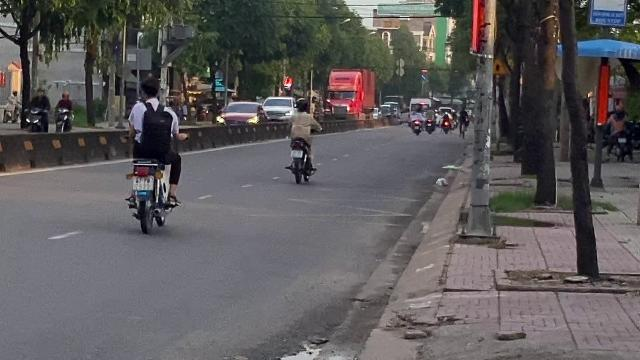licenseplate: (134, 176, 152, 190)
motorcyclist: (122, 76, 184, 234)
nohelmet: (139, 76, 161, 100)
